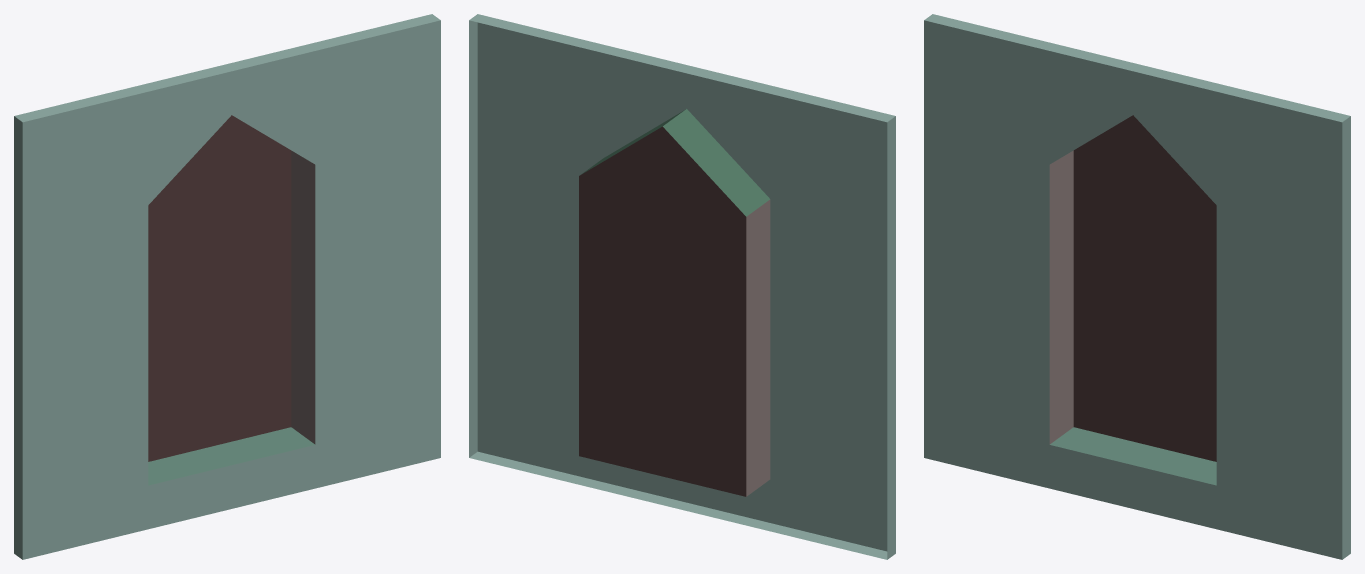
File: SM_Fenetre1x1_2.FBX
3 views of the same model, side by side, from view 1: azimuth 30°, elevation 25°; view 2: azimuth 150°, elevation 25°; view 3: azimuth 330°, elevation 25° (orthographic).
Visible parts, largest first — view 1: SM_Fenetre1x1_2; view 2: SM_Fenetre1x1_2; view 3: SM_Fenetre1x1_2.
Boxes of the visible parts, left/top/right/bottom form: SM_Fenetre1x1_2: left=14, top=14, right=440, bottom=559; SM_Fenetre1x1_2: left=469, top=14, right=895, bottom=559; SM_Fenetre1x1_2: left=924, top=14, right=1350, bottom=559.
Bounding box in the file's own units: 100 × 100 × 10.
